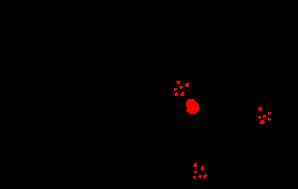Target: (186, 99, 200, 114), (180, 92, 185, 96), (260, 120, 265, 124), (203, 174, 207, 179), (185, 83, 189, 87), (174, 92, 178, 96), (258, 107, 262, 111), (193, 163, 197, 167), (201, 166, 204, 171), (176, 81, 180, 84), (179, 86, 183, 89), (257, 116, 261, 119), (198, 175, 202, 178), (174, 88, 177, 91), (268, 112, 271, 115), (263, 115, 266, 118), (268, 118, 271, 121), (194, 171, 197, 174), (193, 176, 196, 179)
